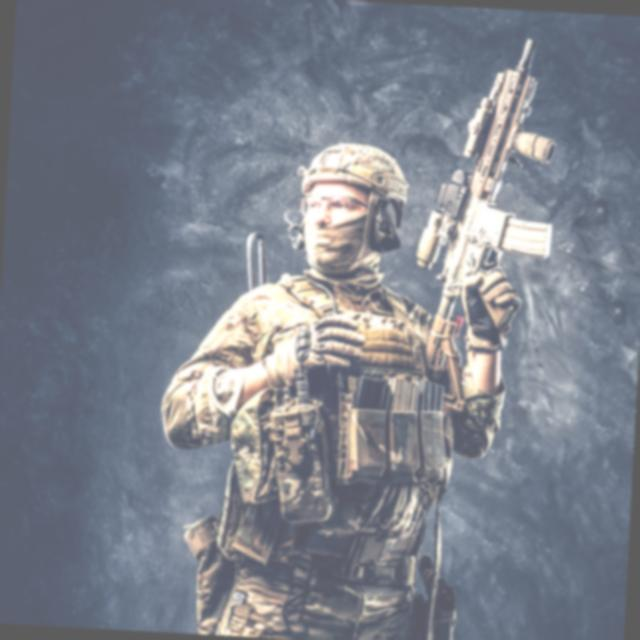rifle: (402, 27, 582, 380)
